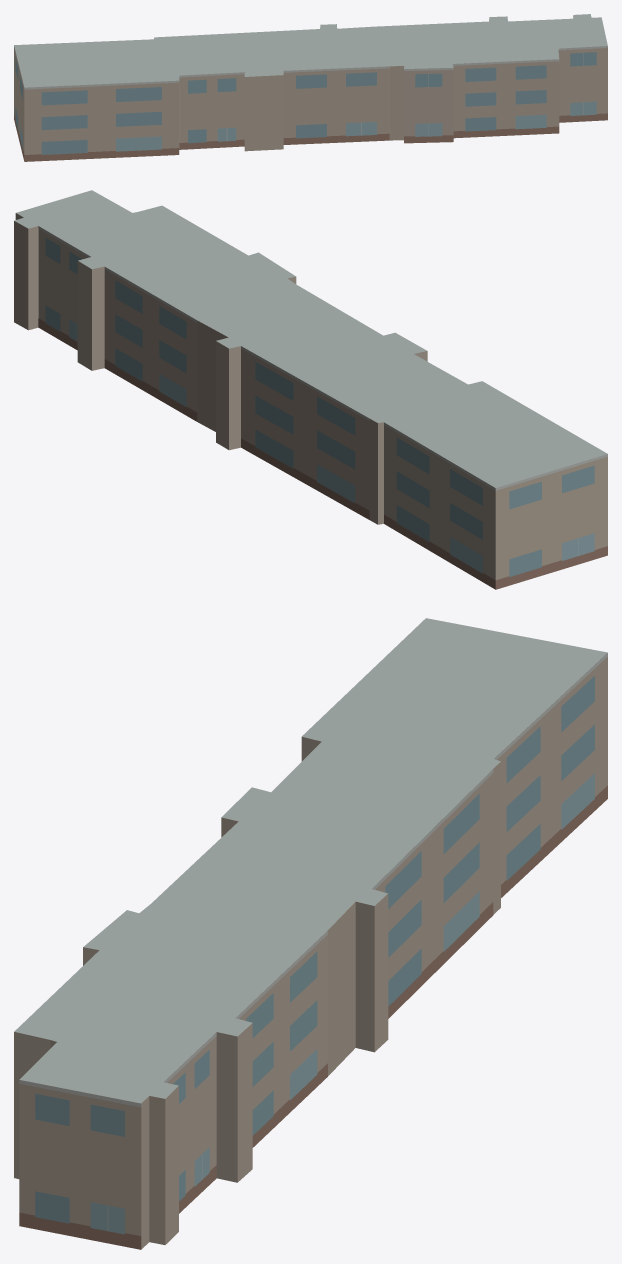
Rendered from survey-upis-32959449.glb.
3 renders of one model, top to bottom at view 1: azimuth 30°, elevation 25°; view 2: azimuth 150°, elevation 25°; view 3: azimuth 270°, elevation 25°, orthographic. The views are drawn at different scales.
Visible parts, largest first — view 1: survey-upis-32959449.tmp; view 2: survey-upis-32959449.tmp; view 3: survey-upis-32959449.tmp.
Boxes of the visible parts, left/top/right/bottom form: survey-upis-32959449.tmp: left=14, top=14, right=607, bottom=161; survey-upis-32959449.tmp: left=14, top=190, right=607, bottom=589; survey-upis-32959449.tmp: left=14, top=618, right=607, bottom=1249.
Size of the model in its own units: 65.12 by 9.15 by 33.67.
